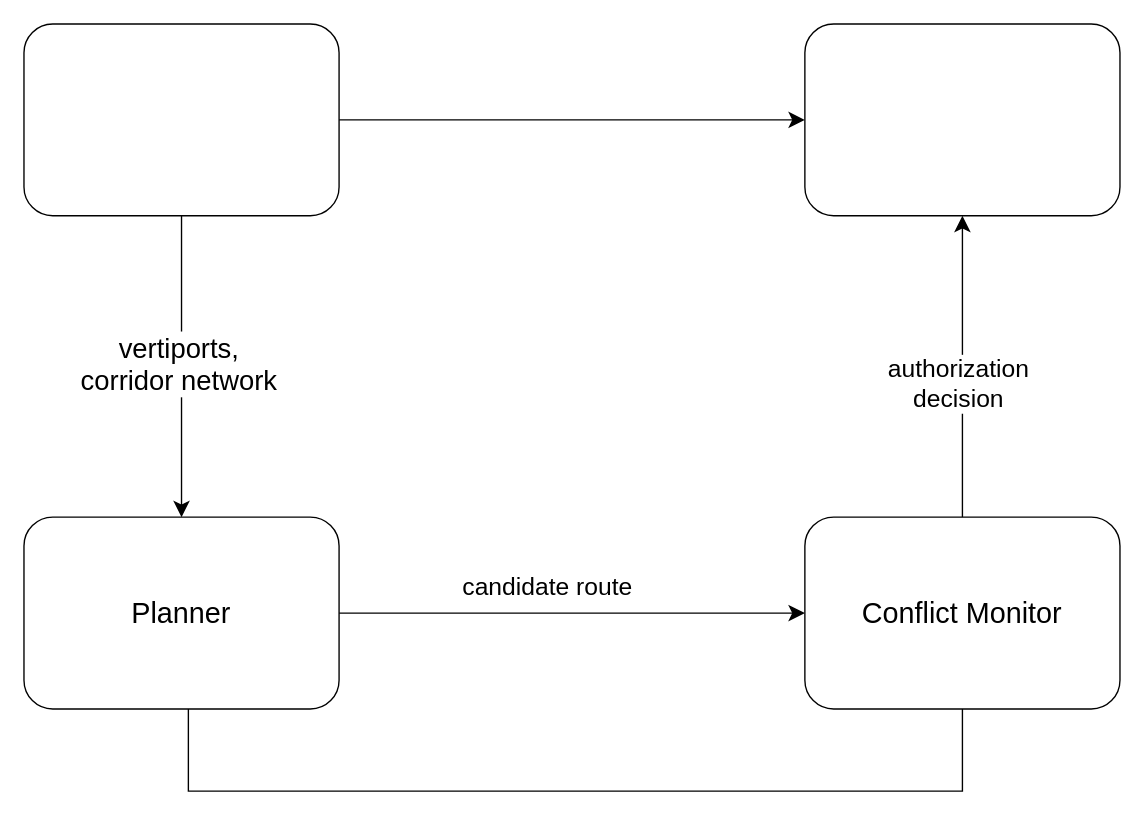
Image size: 1144x817. Some labels were removed from this diagram. Each missing label, with the centre of its shape:
U-space Service Provider: the point at 962,119
Webserver (Topology Registry): the point at 181,119
